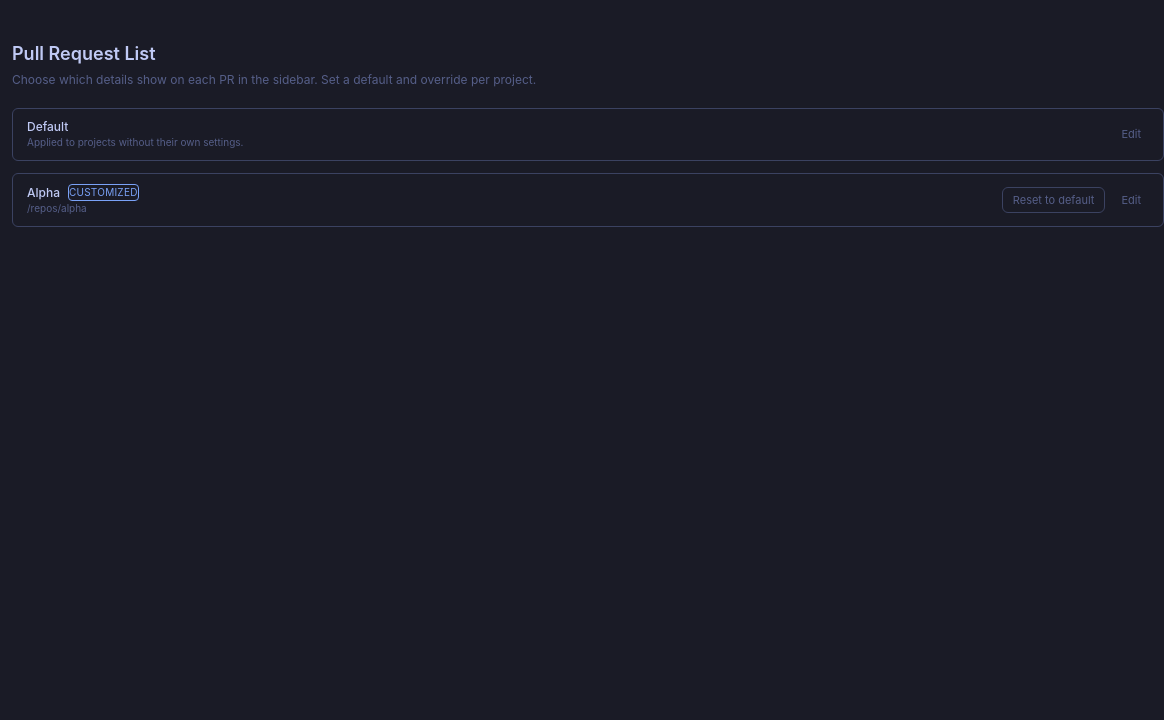
it: PRListDisplaySettings › shows the label filter section only when the labels field is on
Click the 2nd button "Edit". click: point(1131, 200)
box: [1113,188,1149,212]
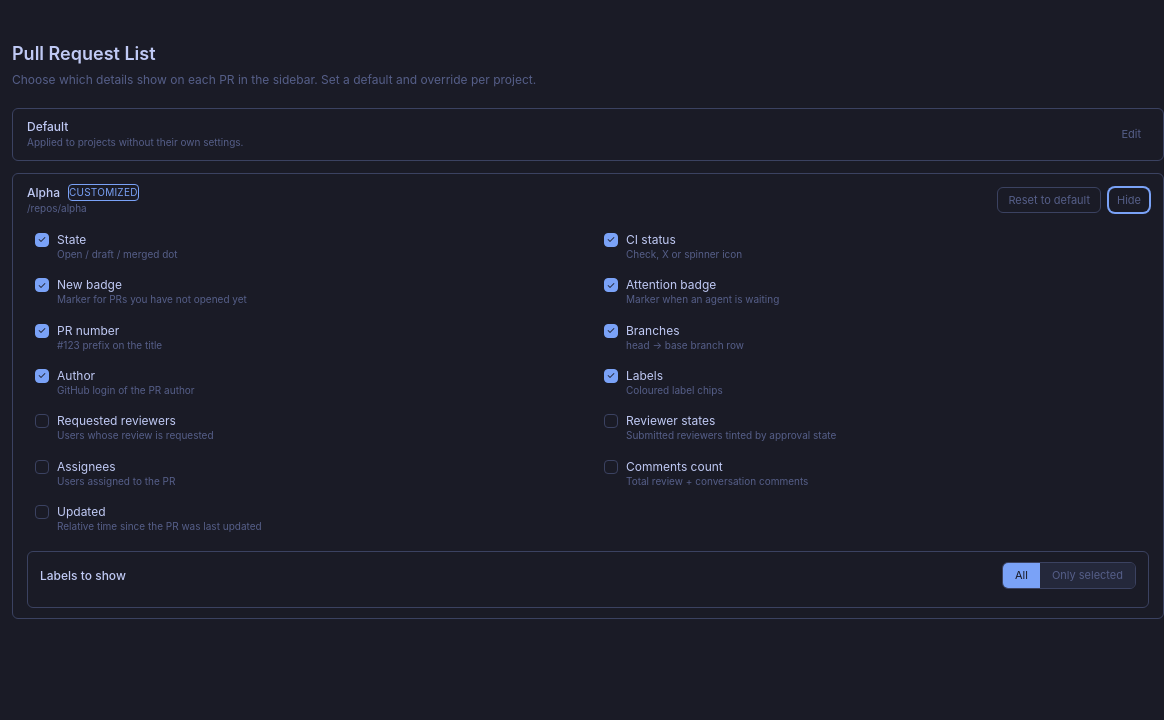
Expected: the text "Labels to show" is shown, [40,568,126,584]
